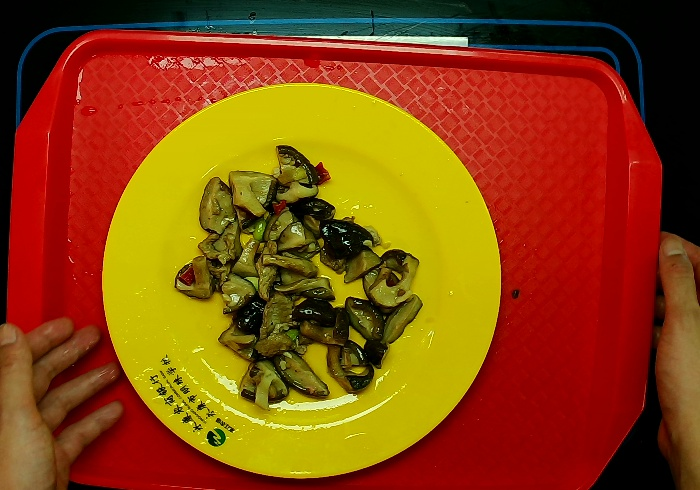YKMZ-Huang_Se_Mian_Pan: (92, 73, 509, 490)
